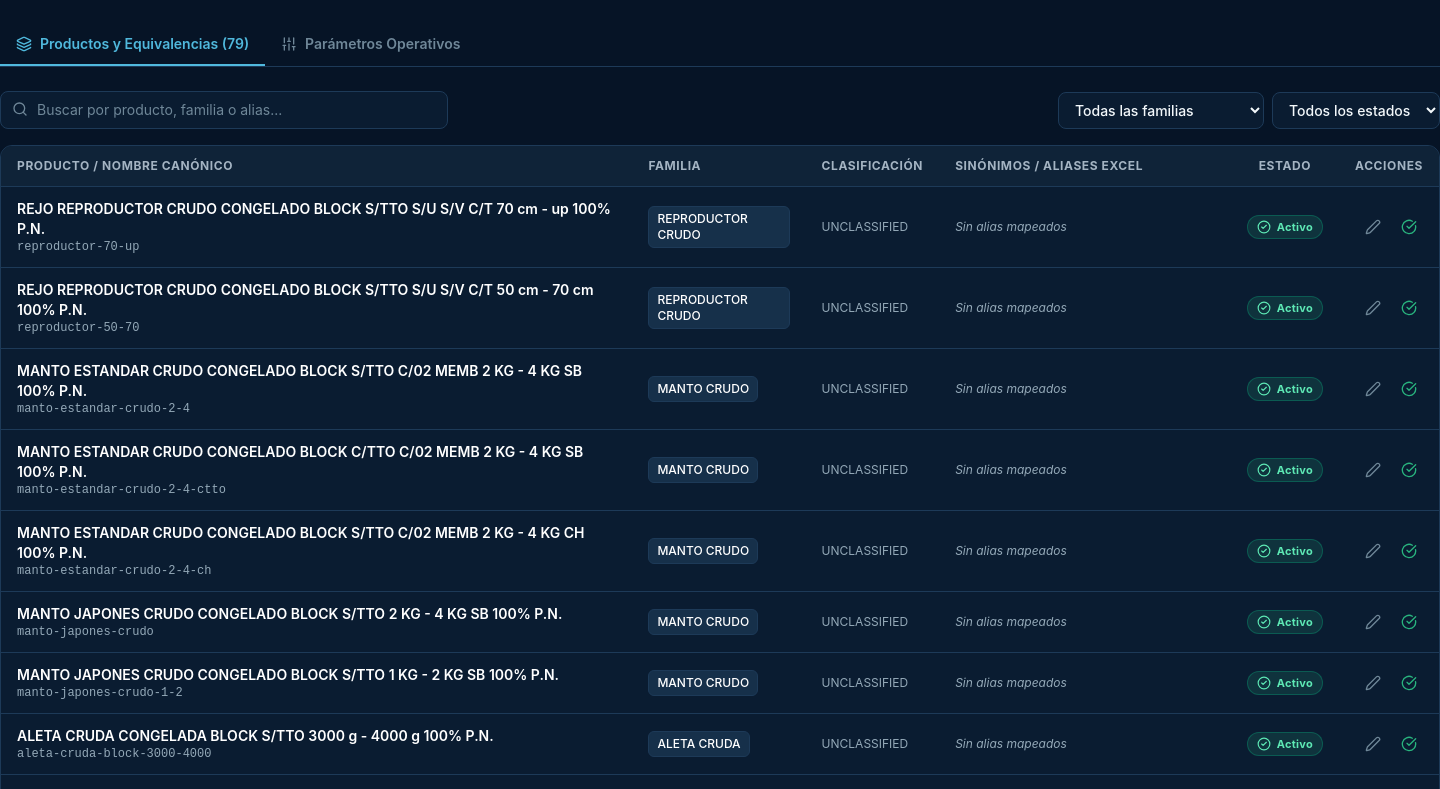
Test: CatalogsPage › switches between products tab and benchmarks tab
Click the button "Parámetros Operativos".
click(371, 45)  # box [265,24,476,66]
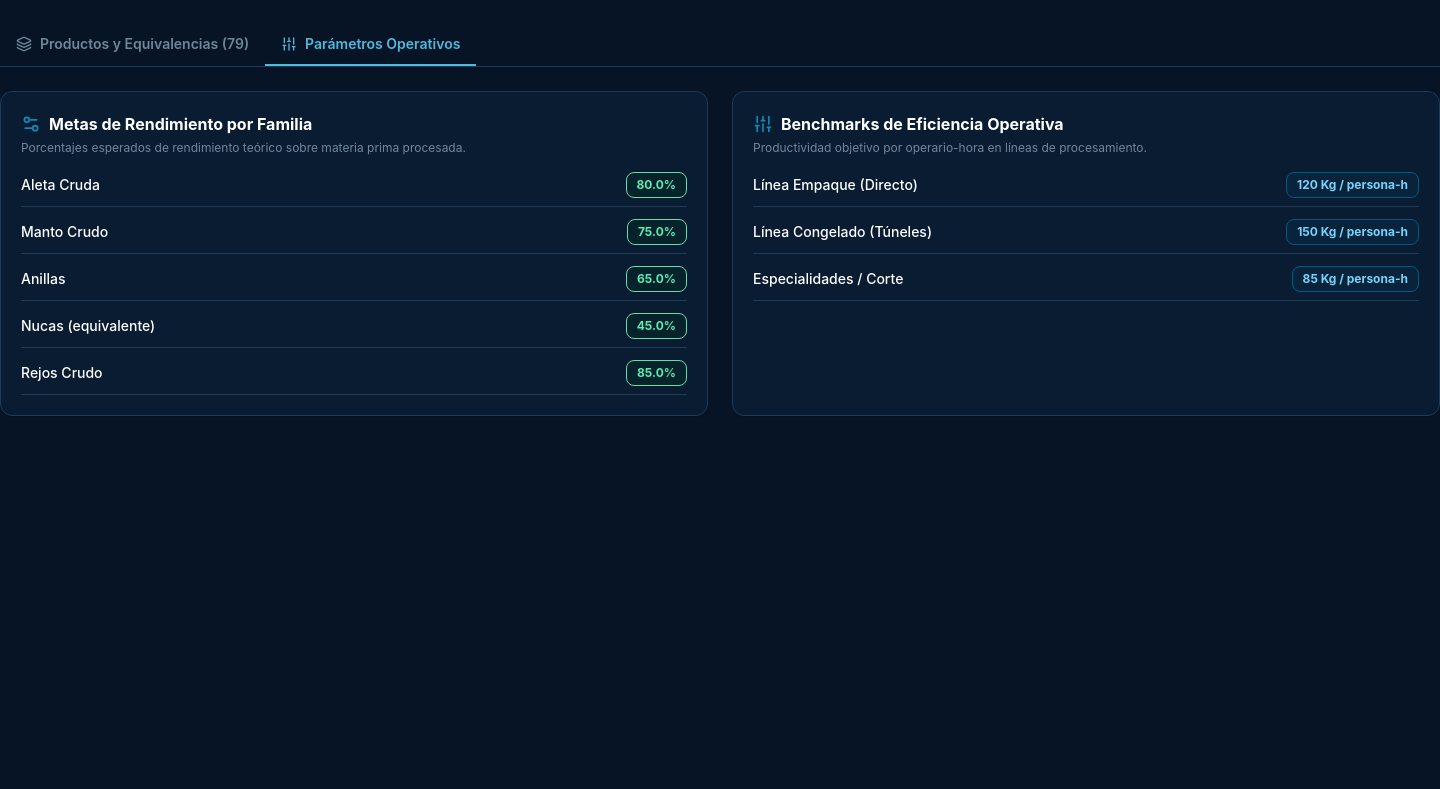
Check: the heading "Metas de Rendimiento por Familia" is shown, box [21,114,312,134]
Check: the heading "Benchmarks de Eficiencia Operativa" is shown, box [753,114,1064,134]
